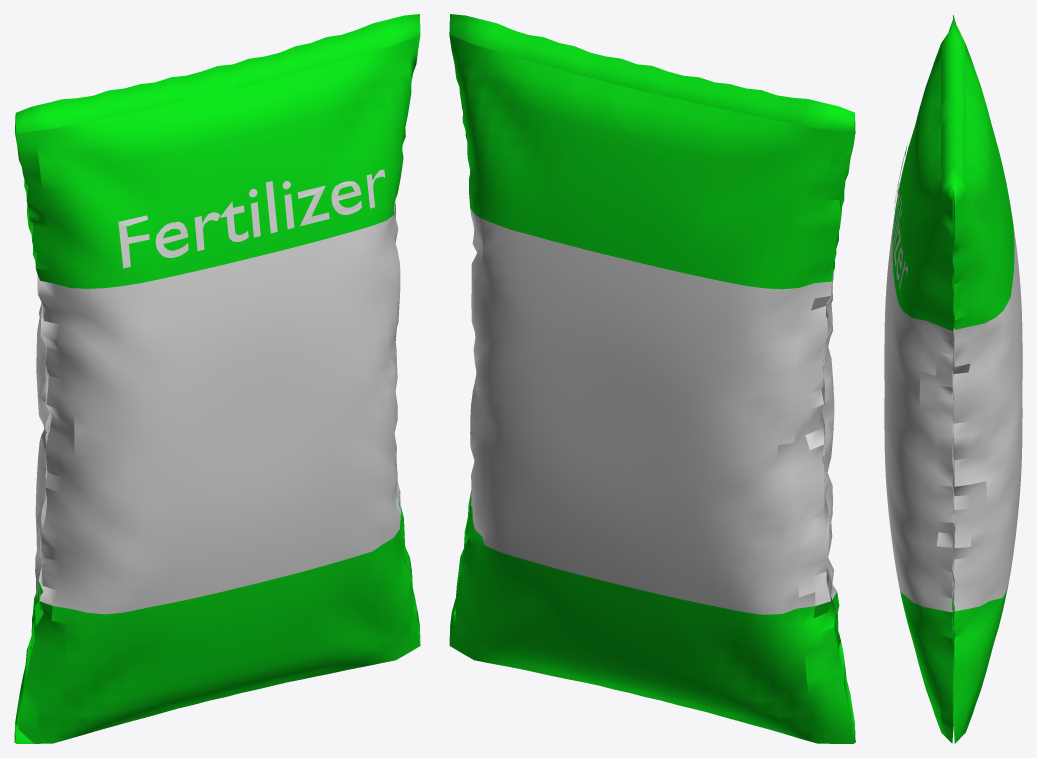
Rendered from fertilizer2.glb.
3 views of the same model, side by side, from view 1: azimuth 30°, elevation 25°; view 2: azimuth 150°, elevation 25°; view 3: azimuth 270°, elevation 25° (orthographic). The views are drawn at different scales.
Visible parts, largest first — view 1: Text.001; view 2: Text.001; view 3: Text.001.
Boxes of the visible parts, x1,y1,x2,y2 form: Text.001: (14,14,420,743); Text.001: (449,14,855,743); Text.001: (884,15,1022,743).
Bounding box in the file's own units: 0.144 × 0.2161 × 0.0483.
